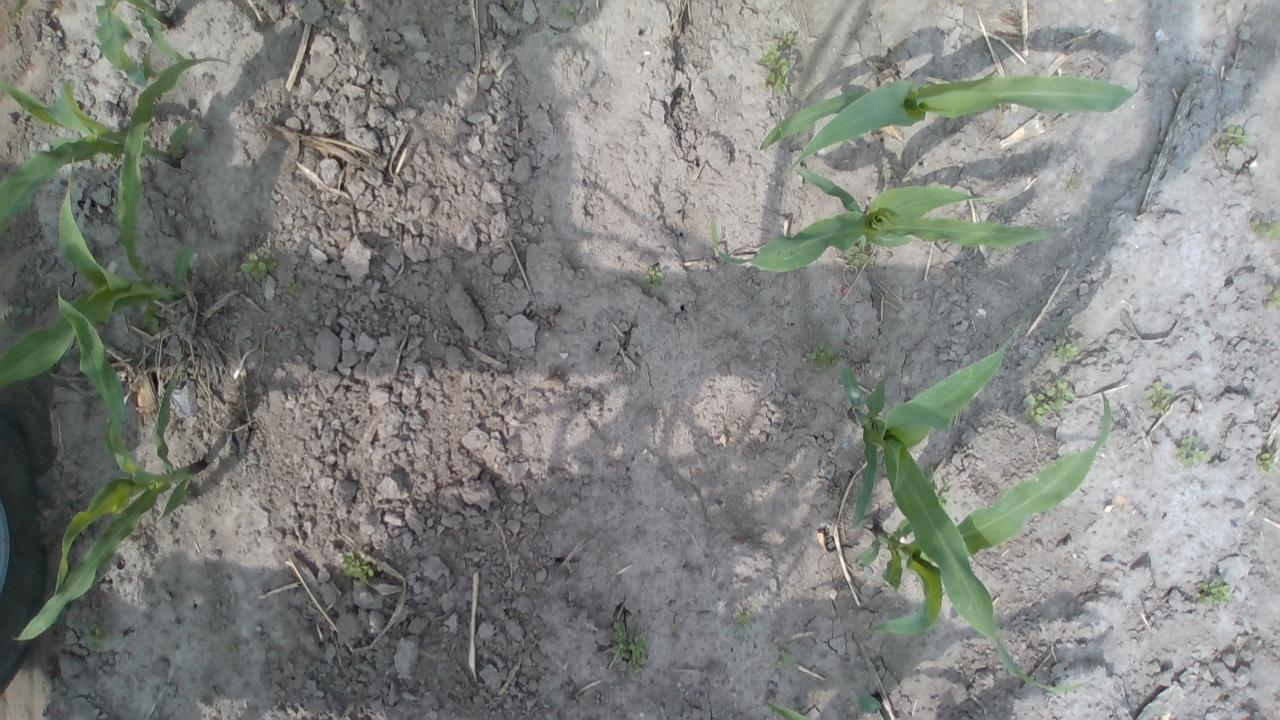Maize: (841, 328, 1092, 694), (0, 58, 229, 388), (15, 286, 206, 642), (853, 394, 1114, 640), (760, 66, 1140, 170), (708, 170, 1066, 275), (0, 78, 194, 230), (13, 0, 183, 90), (769, 691, 890, 720)
Weeds: (1023, 378, 1073, 426), (607, 622, 647, 672), (759, 44, 790, 95), (809, 340, 849, 374), (342, 548, 376, 584), (240, 250, 280, 280), (1176, 435, 1211, 469), (1216, 126, 1256, 153), (1143, 382, 1174, 416), (1196, 580, 1232, 607), (85, 623, 114, 651), (1249, 216, 1280, 241), (1055, 340, 1081, 362), (640, 266, 664, 288), (1256, 452, 1277, 474), (781, 30, 800, 54), (846, 247, 872, 264), (776, 648, 792, 670), (1264, 286, 1280, 308), (222, 638, 240, 656), (559, 2, 576, 16), (286, 280, 300, 296), (736, 610, 752, 624)
